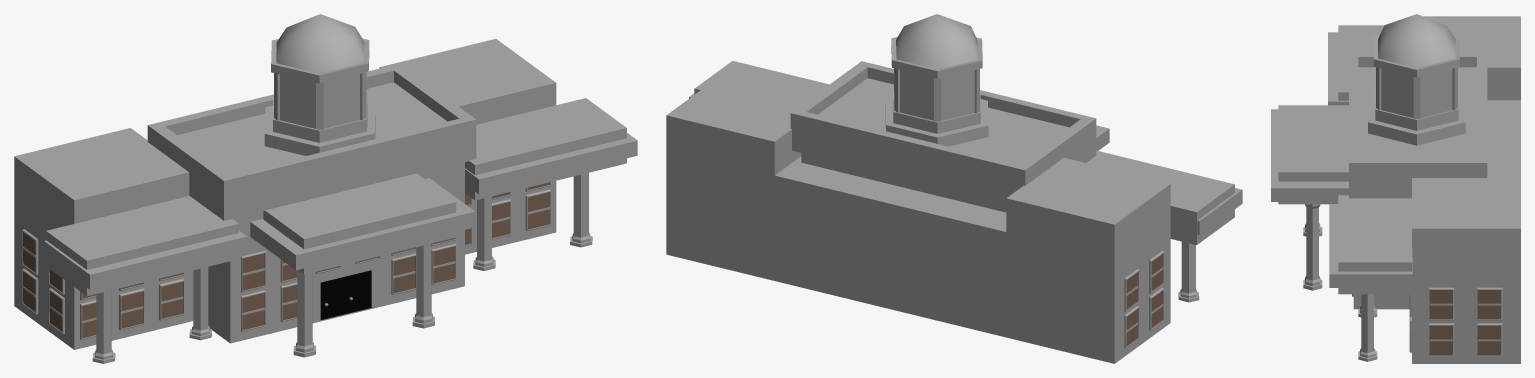
File: CourtHouse.fbx
3 views of the same model, side by side, from view 1: azimuth 30°, elevation 25°; view 2: azimuth 150°, elevation 25°; view 3: azimuth 270°, elevation 25° (orthographic). The views are drawn at different scales.
Visible parts, largest first — view 1: pCube202, pCylinder60, pCube204, pCube203, pCube205, pCube207, pCube206, pCube208, pCylinder58, pCylinder59, pCylinder64, pCylinder61 (+17 smaller); view 2: pCube202, pCylinder60, pCube204, pCube205, pCylinder61, pCube206, polySurface560, polySurface559, polySurface558, polySurface561; view 3: pCube202, pCylinder60, pCube205, pCube203, pCube207, pCube208, pCube204, pCylinder59, pCylinder64, polySurface564, polySurface563, pCube206 (+2 smaller).
Part boxes in pixels (x1=…): pCube202: x1=14, y1=39, x2=556, y2=349; pCylinder60: x1=264, y1=14, x2=375, y2=155; pCube204: x1=46, y1=196, x2=238, y2=296; pCube203: x1=263, y1=173, x2=456, y2=274; pCube205: x1=465, y1=98, x2=626, y2=200; pCube207: x1=250, y1=178, x2=475, y2=270; pCube206: x1=44, y1=230, x2=247, y2=289; pCube208: x1=465, y1=133, x2=637, y2=194; pCylinder58: x1=293, y1=270, x2=315, y2=357; pCylinder59: x1=412, y1=243, x2=434, y2=328; pCylinder64: x1=570, y1=173, x2=592, y2=247; pCylinder61: x1=92, y1=290, x2=115, y2=363; pCube202: x1=666, y1=61, x2=1170, y2=363; pCylinder60: x1=885, y1=14, x2=988, y2=146; pCube204: x1=1086, y1=150, x2=1234, y2=244; pCube205: x1=694, y1=61, x2=829, y2=96; pCylinder61: x1=1178, y1=241, x2=1199, y2=302; pCube206: x1=1197, y1=188, x2=1242, y2=234; polySurface560: x1=1124, y1=269, x2=1138, y2=311; polySurface559: x1=1149, y1=287, x2=1163, y2=330; polySurface558: x1=1149, y1=251, x2=1163, y2=293; polySurface561: x1=1124, y1=306, x2=1138, y2=348; pCube202: x1=1349, y1=16, x2=1520, y2=363; pCylinder60: x1=1368, y1=14, x2=1465, y2=145; pCube205: x1=1338, y1=195, x2=1412, y2=294; pCube203: x1=1278, y1=105, x2=1348, y2=204; pCube207: x1=1271, y1=109, x2=1348, y2=201; pCube208: x1=1329, y1=204, x2=1412, y2=287; pCube204: x1=1338, y1=25, x2=1384, y2=100; pCylinder59: x1=1303, y1=204, x2=1322, y2=290; pCylinder64: x1=1358, y1=294, x2=1377, y2=361; polySurface564: x1=1477, y1=287, x2=1502, y2=320; polySurface563: x1=1429, y1=287, x2=1454, y2=320; pCube206: x1=1328, y1=32, x2=1348, y2=105.
Bounding box in the file's own units: 211 × 102 × 92.13.
